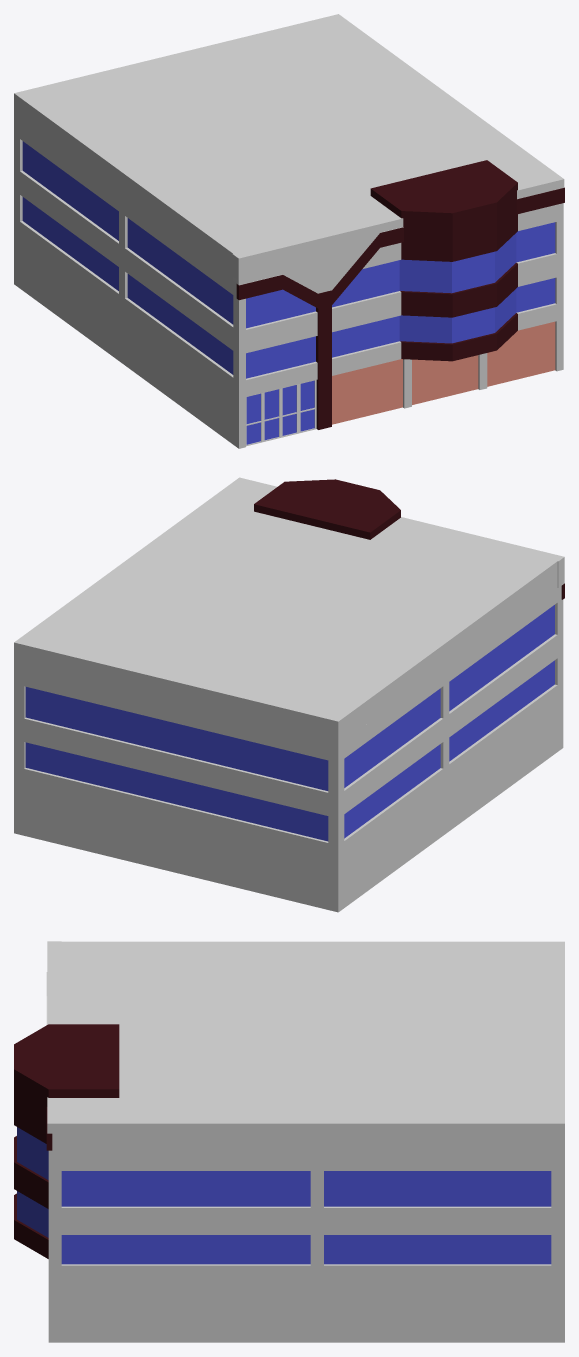
Rendered from building32.fbx.
3 views of the same model, one above another, from view 1: azimuth 30°, elevation 25°; view 2: azimuth 150°, elevation 25°; view 3: azimuth 270°, elevation 25° (orthographic). The views are drawn at different scales.
Parts seen in each view (by area): view 1: building21; view 2: building21; view 3: building21.
Boxes of the visible parts, x1,y1,x2,y2 form: building21: [14, 14, 564, 448]; building21: [14, 477, 564, 912]; building21: [14, 941, 564, 1342].
Size of the model in its own units: 2036 by 1184 by 2598.
